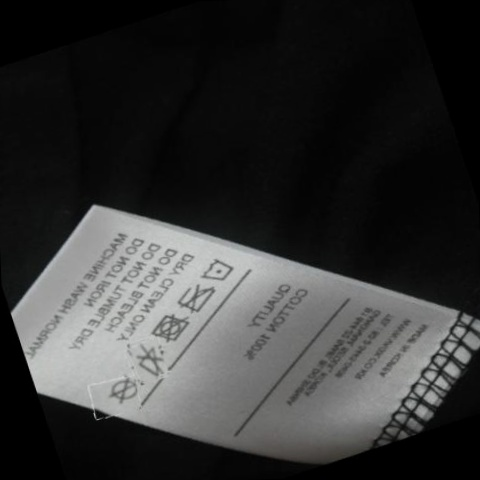30C: (202, 256, 232, 283)
DN_bleach: (129, 345, 164, 379)
DN_dry_clean: (108, 377, 140, 406)
DN_iron: (175, 284, 212, 315)
DN_tumble_dry: (149, 311, 188, 343)
